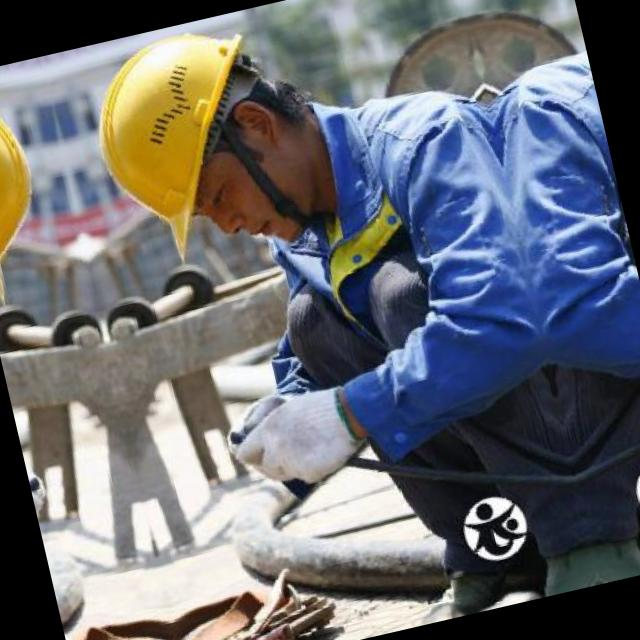helmet: (54, 11, 333, 278), (0, 68, 79, 305), (424, 476, 552, 588), (611, 443, 640, 547)
